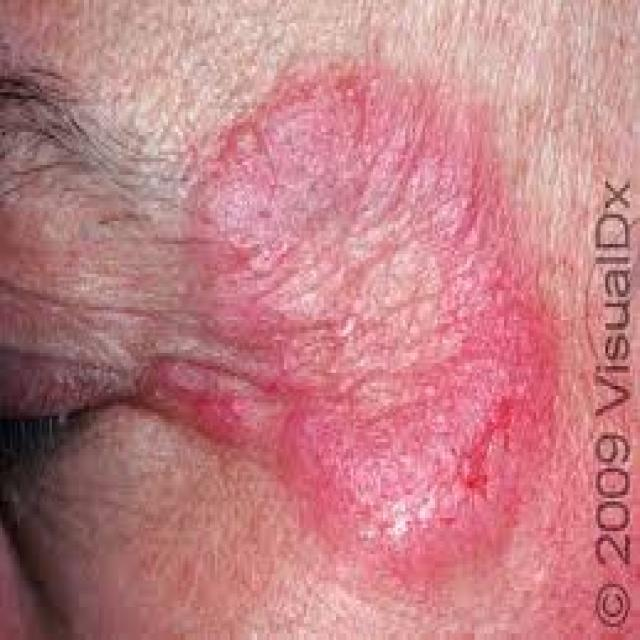Eczema: (154, 78, 548, 587)
